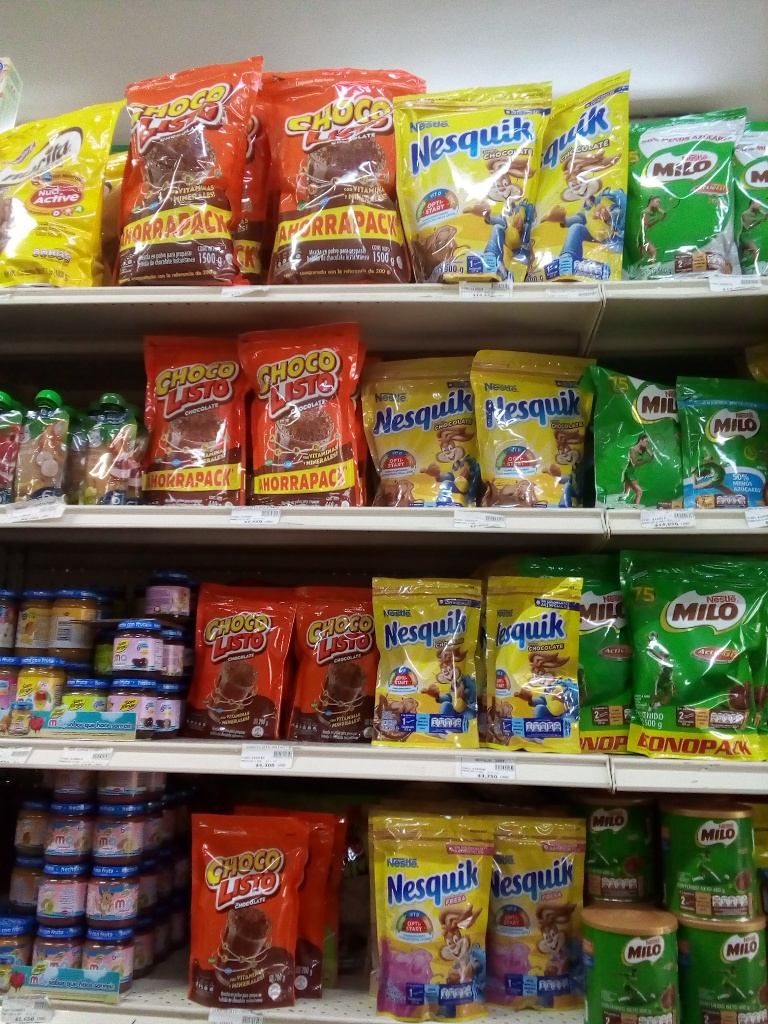COL0170103DYP1,500: (257, 67, 432, 285)
COL0170103DYP44000: (233, 321, 368, 509)
COL0170203DYP50000: (622, 546, 764, 761)
COL0170203LAT40000: (580, 795, 660, 905)
COL0170205DYP50000: (630, 106, 741, 275)
COL0170303DYP20000: (488, 577, 583, 753)
COL0170305DYP20000: (473, 813, 588, 1017)
